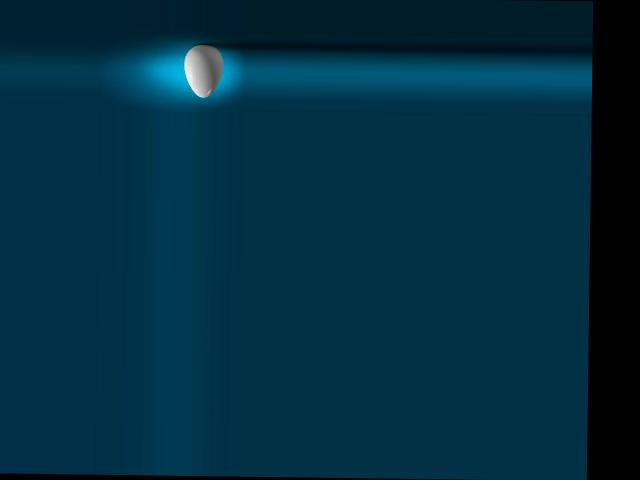egg: (184, 43, 224, 97)
